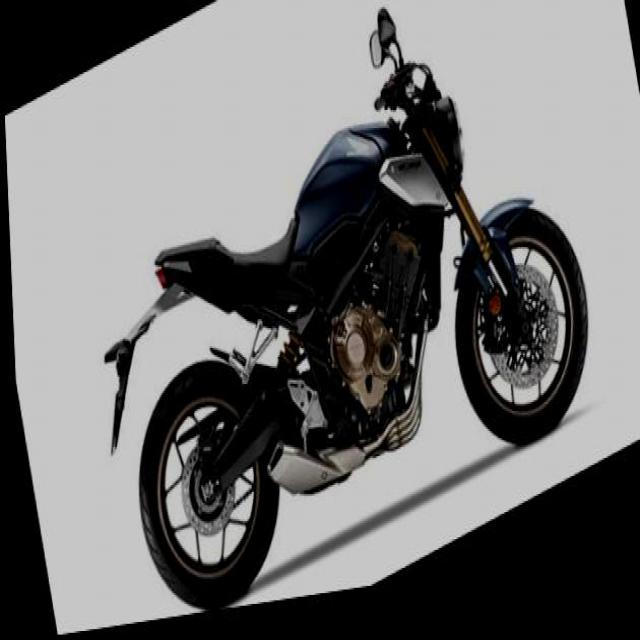CB650R: (56, 0, 606, 631)
